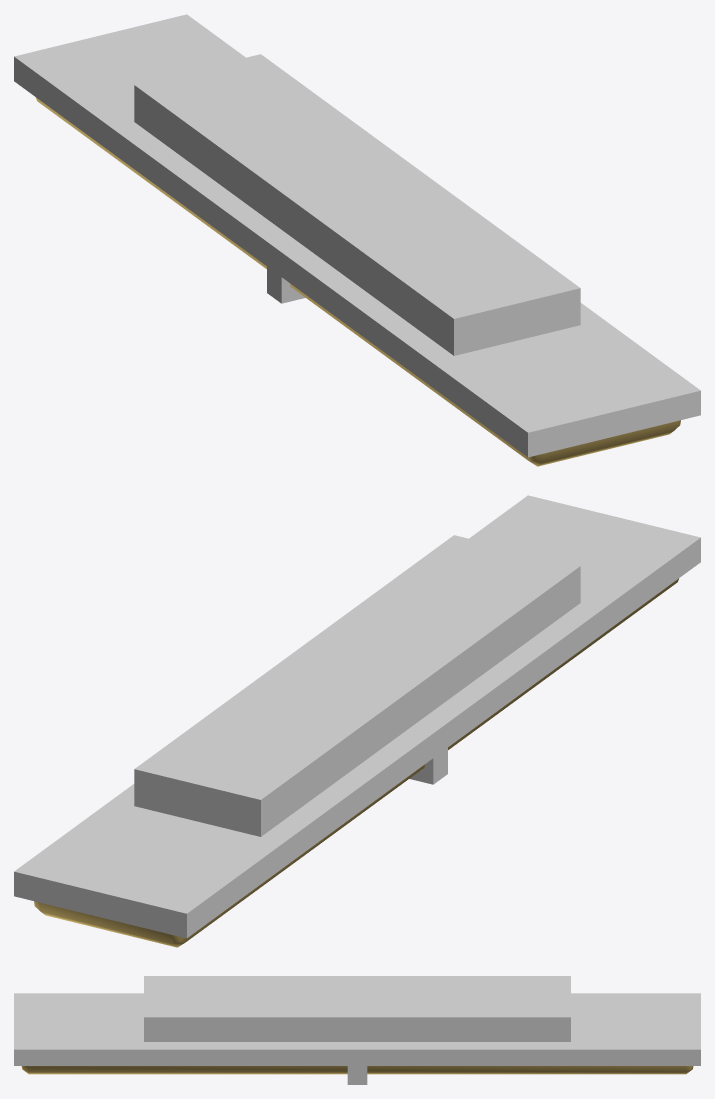
3 views of the same model, one above another, from view 1: azimuth 30°, elevation 25°; view 2: azimuth 150°, elevation 25°; view 3: azimuth 270°, elevation 25° (orthographic). The views are drawn at different scales.
Visible parts, largest first — view 1: Cube.003.frozen; view 2: Cube.003.frozen; view 3: Cube.003.frozen.
Boxes of the visible parts, x1,y1,x2,y2 form: Cube.003.frozen: [14, 14, 700, 466]; Cube.003.frozen: [14, 495, 700, 947]; Cube.003.frozen: [14, 976, 700, 1084].
Size of the model in its own units: 15.35 by 7.76 by 79.03.
